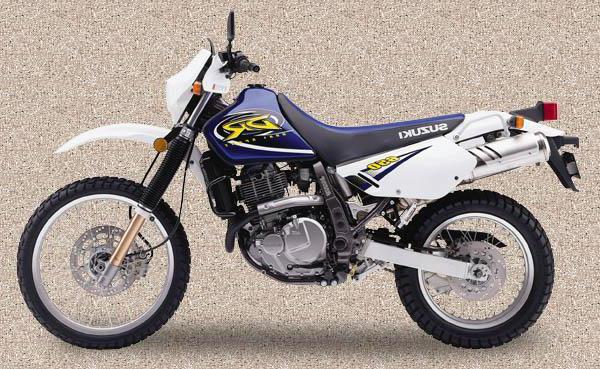motorcycle: (10, 5, 584, 354)
